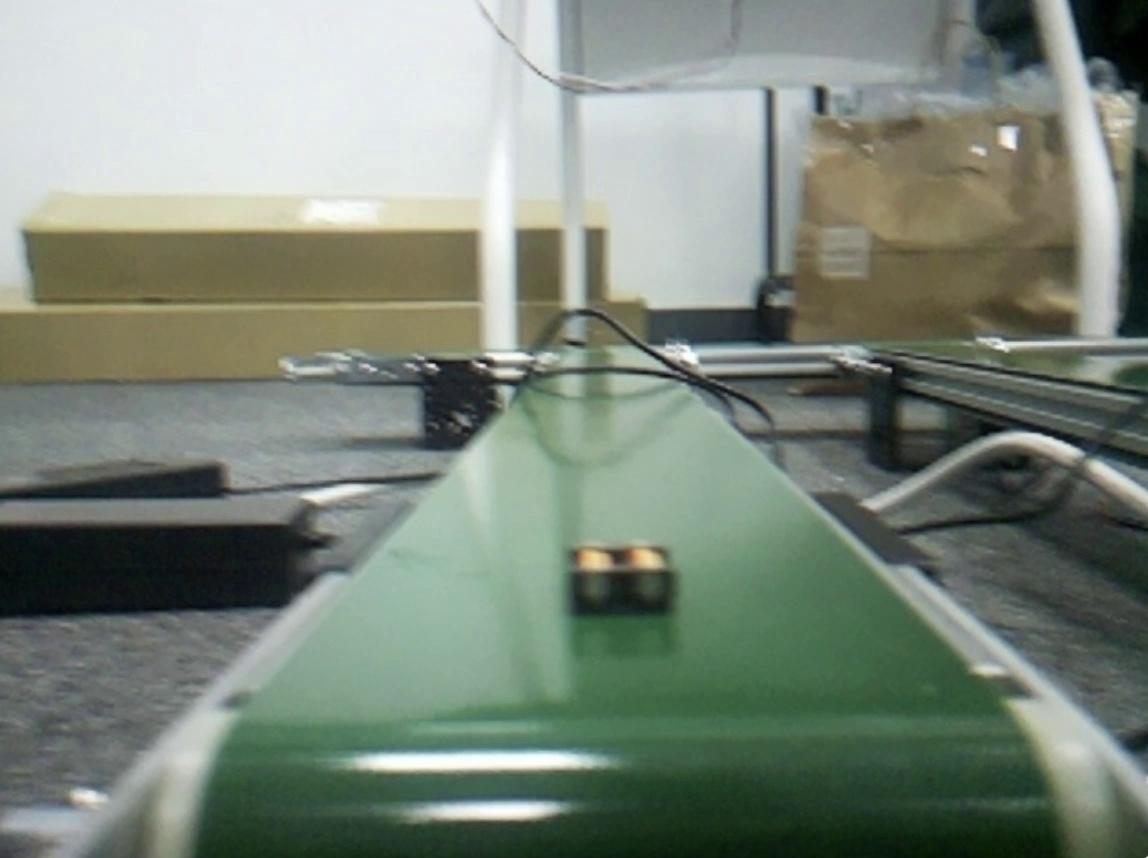inductor: (572, 546, 675, 608)
